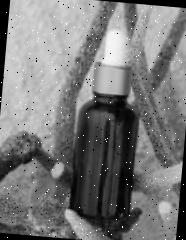glass: (71, 26, 149, 221)
